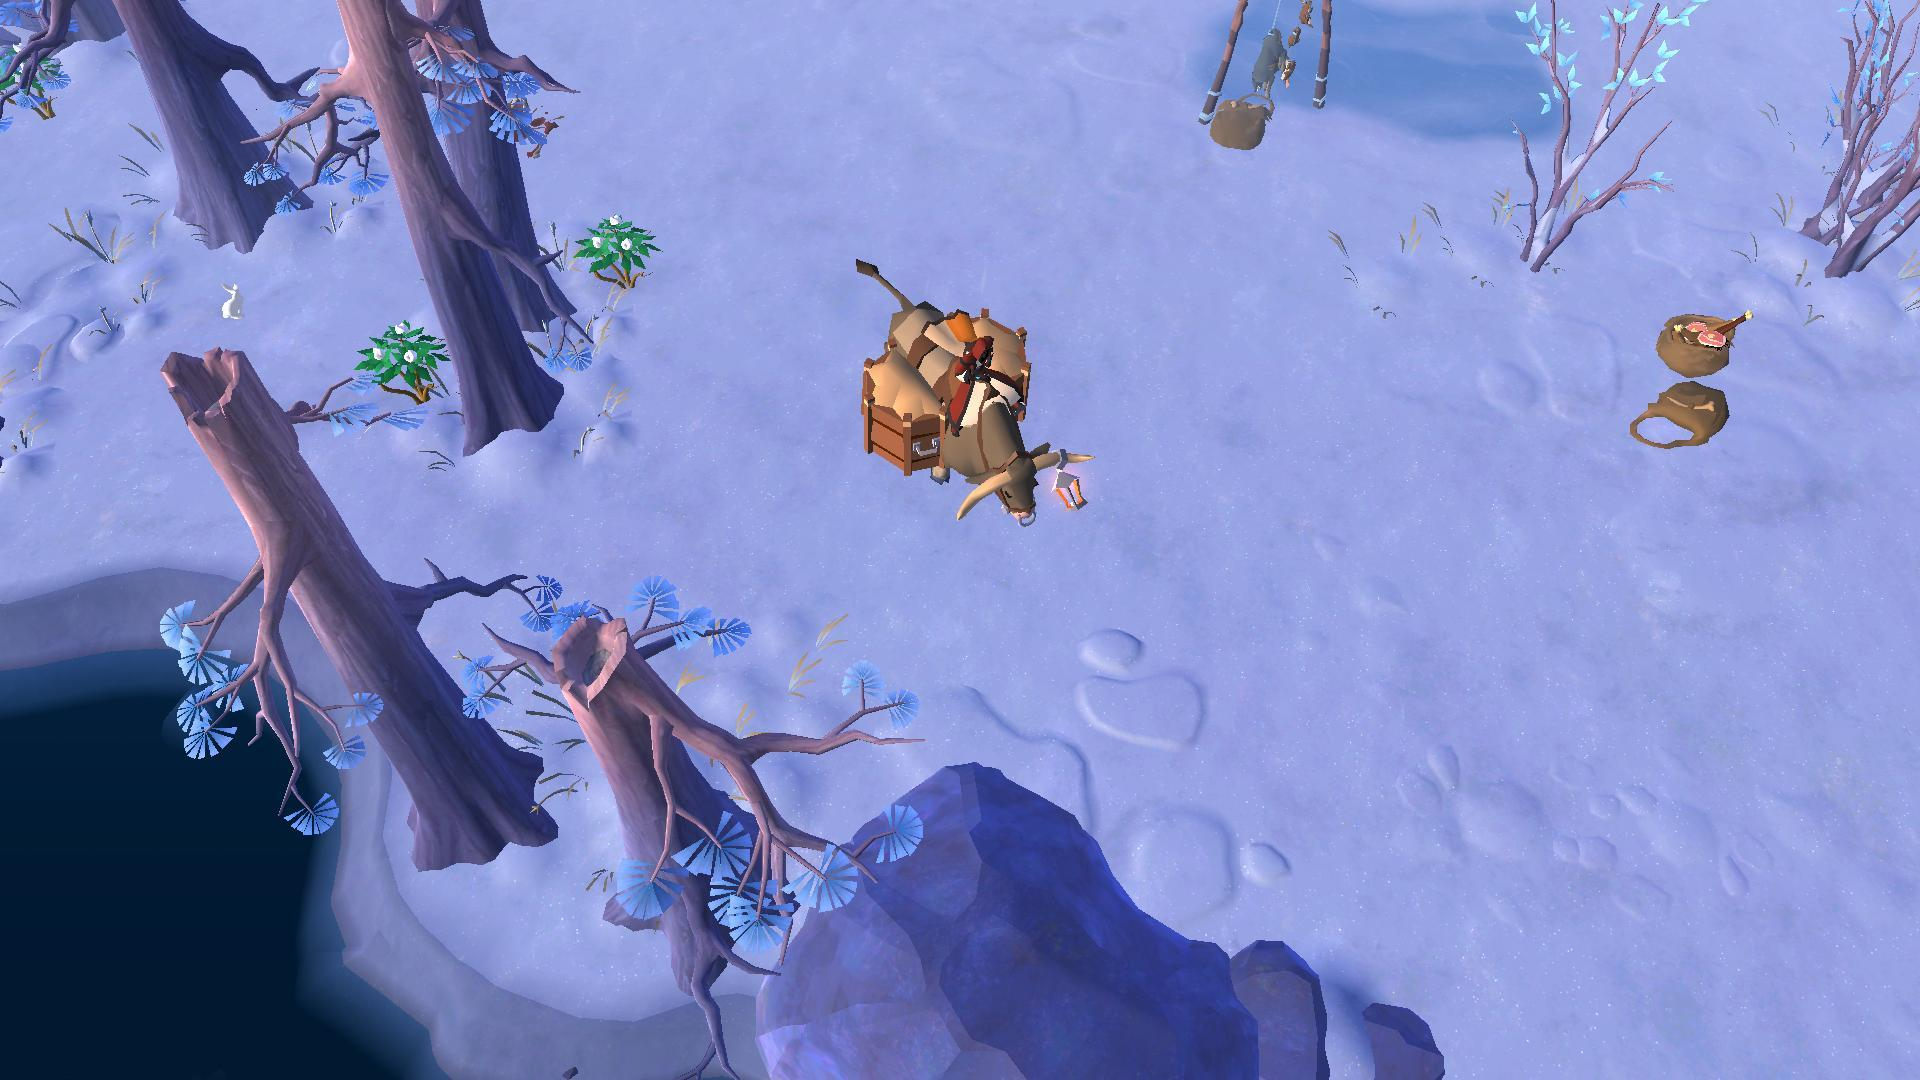fiber_t3: (361, 319, 450, 413), (574, 208, 659, 298)
